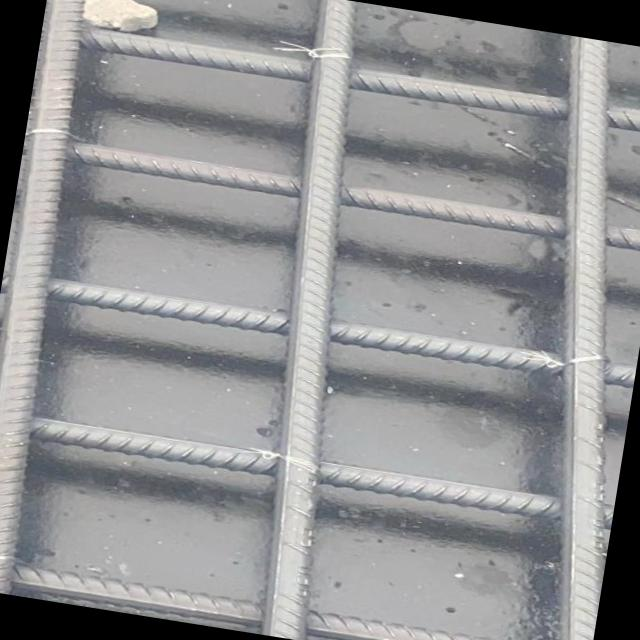ribbed bar: (214, 0, 405, 640), (463, 34, 640, 640), (0, 265, 636, 393), (0, 403, 614, 533), (65, 138, 640, 257), (80, 21, 640, 142), (0, 0, 111, 594), (0, 552, 554, 640)
